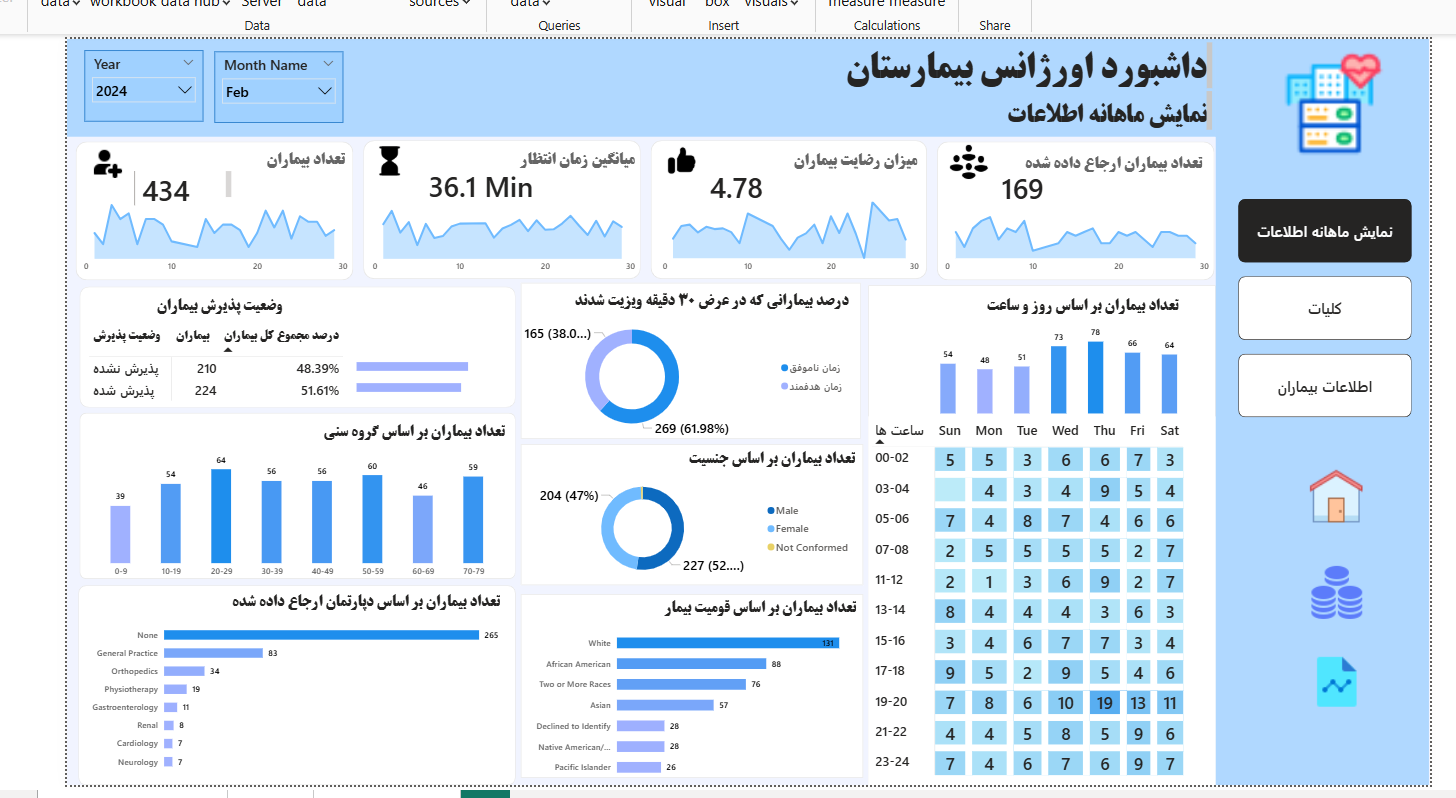

The page's visual inventory and layout, read from the dashboard file:
{"tool":"powerbi","page":{"name":"نمایش ماهانه اطلاعات","canvas":[1972,1080],"ordinal":0},"visuals":[{"type":"shape","box":[0,0,1663.3,141.5],"z":0},{"type":"textbox","box":[1018.8,0,644.2,88.7],"z":1000},{"type":"textbox","box":[1341,70.6,322.1,70.6],"z":2000},{"type":"shape","box":[12.7,148.4,401.7,200.9],"z":3000},{"type":"multiRowCard","fields":{"Values":["Hospital ER_Data.Number of Patients"]},"box":[92.3,186.4,150.2,59.7],"z":4000},{"type":"slicer","fields":{"Values":["Data Table.Year"]},"box":[25.3,16.3,171.9,103.2],"z":5000},{"type":"slicer","fields":{"Values":["Data Table.Month Name"]},"box":[213.5,18.1,186.4,103.2],"z":6000},{"type":"textbox","box":[213.5,152,193.6,54.3],"z":7000},{"type":"areaChart","fields":{"Category":["Data Table.Date.Variation.Date Hierarchy.Day"],"Y":["Hospital ER_Data.Number of Patients"]},"box":[12.7,222.6,401.7,124.9],"z":8000},{"type":"shape","box":[428.9,146.6,401.7,200.9],"z":10000},{"type":"shape","box":[845.1,146.6,399.9,200.9],"z":11000},{"type":"shape","box":[1259.5,148.4,401.7,200.9],"z":12000},{"type":"textbox","box":[570,146.6,257,56.1],"z":13000},{"type":"card","fields":{"Values":["Hospital ER_Data.Average Wait Time"]},"box":[499.5,184.6,199.1,56.1],"z":14000},{"type":"areaChart","fields":{"Category":["Data Table.Date.Variation.Date Hierarchy.Day"],"Y":["Avg(Hospital ER_Data.Patient Waittime)"]},"box":[430.7,222.6,399.9,124.9],"z":15000},{"type":"textbox","box":[986.3,148.4,249.7,57.9],"z":16000},{"type":"card","fields":{"Values":["Hospital ER_Data.Satisfaction Score"]},"box":[892.2,184.6,153.8,59.7],"z":17000},{"type":"areaChart","fields":{"Category":["Data Table.Date.Variation.Date Hierarchy.Day"],"Y":["Hospital ER_Data.Satisfaction Score"]},"box":[850.5,222.6,390.9,124.9],"z":18000},{"type":"textbox","box":[1328.3,152,320.3,57.9],"z":19000},{"type":"shape","box":[18.1,358.3,631.6,175.5],"z":20000},{"type":"areaChart","fields":{"Category":["Data Table.Date.Variation.Date Hierarchy.Day"],"Y":["Hospital ER_Data.Number Of Patient Referred"]},"box":[1259.5,222.6,401.7,124.9],"z":21000},{"type":"card","fields":{"Values":["Hospital ER_Data.Number Of Patient Referred"]},"box":[1306.6,186.4,153.8,57.9],"z":22000},{"type":"pivotTable","title":"وضعیت پذیرش بیماران","fields":{"Rows":["Hospital ER_Data.Admission Status"],"Values":["Hospital ER_Data.Number of Patients1","Hospital ER_Data.Number of Patients"]},"box":[27.1,363.7,387.3,166.5],"z":23000},{"type":"barChart","fields":{"Category":["Hospital ER_Data.وضعیت پذیرش"],"Y":["Hospital ER_Data.Number of Patients"]},"box":[414.4,439.7,226.2,94.1],"z":24000},{"type":"shape","box":[18.1,541.1,631.6,240.7],"z":25000},{"type":"columnChart","title":"تعداد بیماران بر اساس گروه سنی","fields":{"Category":["Hospital ER_Data.گروه سنی"],"Y":["Hospital ER_Data.Number of Patients"]},"box":[29,546.5,609.9,242.5],"z":26000},{"type":"shape","box":[16.3,790.8,633.4,289.5],"z":27000},{"type":"clusteredBarChart","title":"تعداد بیماران بر اساس دپارتمان ارجاع داده شده","fields":{"Category":["Hospital ER_Data.Department Referral"],"Y":["Hospital ER_Data.Number of Patients"]},"box":[30.8,792.6,600.8,276.9],"z":28000},{"type":"shape","box":[656.9,586.3,495.8,204.5],"z":29000},{"type":"shape","box":[656.9,352.9,492.2,226.2],"z":30000},{"type":"donutChart","title":"درصد بیمارانی که در عرض 30 دقیقه ویزیت شدند","fields":{"Category":["Hospital ER_Data.وضعیت زمان انتظار"],"Y":["Hospital ER_Data.Number of Patients"]},"box":[599,356.5,537.5,224.4],"z":31000},{"type":"donutChart","title":"تعداد بیماران بر اساس جنسیت","fields":{"Y":["Hospital ER_Data.Number of Patients"],"Category":["Hospital ER_Data.Patient Gender"]},"box":[649.7,586.3,495.8,204.5],"z":32000},{"type":"shape","box":[656.9,803.5,495.8,266],"z":33000},{"type":"clusteredBarChart","title":"تعداد بیماران بر اساس قومیت بیمار","fields":{"Y":["Hospital ER_Data.Number of Patients"],"Category":["Hospital ER_Data.Patient Race"]},"box":[662.3,801.7,485,278.7],"z":34000},{"type":"shape","box":[1160,356.5,503.1,723.9],"z":35000},{"type":"pivotTable","fields":{"Rows":["Hospital ER_Data.فاصله زمان انتظار"],"Columns":["Data Table.Day Name"],"Values":["Hospital ER_Data.Number of Patients"]},"box":[1160,546.5,503.1,533.8],"z":36000},{"type":"columnChart","title":"تعداد بیماران بر اساس روز و ساعت","fields":{"Category":["Data Table.Day Name"],"Y":["Hospital ER_Data.Number of Patients"]},"box":[1259.5,363.7,354.7,184.6],"z":37000},{"type":"image","box":[1259.5,144.8,92.3,67],"z":38000},{"type":"image","box":[427.1,148.4,79.6,56.1],"z":39000},{"type":"image","box":[25.3,155.6,68.8,50.7],"z":40000},{"type":"image","box":[852.4,146.6,76,61.5],"z":41000},{"type":"shape","box":[1663.3,0,308.7,1080.3],"z":42000},{"type":"image","box":[1721,0,226.2,186.4],"z":43000},{"type":"pageNavigator","box":[1695.7,231.6,251.5,316.7],"z":44000},{"type":"image","box":[1787.7,878.8,100.7,102.9],"z":48000},{"type":"image","box":[1787.7,756.6,100.7,90],"z":49000},{"type":"image","box":[1787.7,617.3,98.6,90],"z":51000}]}

Visuals, with their boxes on the page's 1972x1080 design canvas (x1, y1, x2, y2). These are canvas units, not pixel positions in the 1456x798 screenshot, which may show the page scaled, cropped or inside an application window:
shape: region(0, 0, 1663, 142)
textbox: region(1019, 0, 1663, 89)
textbox: region(1341, 71, 1663, 141)
shape: region(13, 148, 414, 349)
multiRowCard - Hospital ER_Data.Number of Patients: region(92, 186, 242, 246)
slicer - Data Table.Year: region(25, 16, 197, 120)
slicer - Data Table.Month Name: region(214, 18, 400, 121)
textbox: region(214, 152, 407, 206)
areaChart - Data Table.Date.Variation.Date Hierarchy.Day x Hospital ER_Data.Number of Patients: region(13, 223, 414, 348)
shape: region(429, 147, 831, 348)
shape: region(845, 147, 1245, 348)
shape: region(1260, 148, 1661, 349)
textbox: region(570, 147, 827, 203)
card - Hospital ER_Data.Average Wait Time: region(500, 185, 699, 241)
areaChart - Data Table.Date.Variation.Date Hierarchy.Day x Avg(Hospital ER_Data.Patient Waittime): region(431, 223, 831, 348)
textbox: region(986, 148, 1236, 206)
card - Hospital ER_Data.Satisfaction Score: region(892, 185, 1046, 244)
areaChart - Data Table.Date.Variation.Date Hierarchy.Day x Hospital ER_Data.Satisfaction Score: region(850, 223, 1241, 348)
textbox: region(1328, 152, 1649, 210)
shape: region(18, 358, 650, 534)
areaChart - Data Table.Date.Variation.Date Hierarchy.Day x Hospital ER_Data.Number Of Patient Referred: region(1260, 223, 1661, 348)
card - Hospital ER_Data.Number Of Patient Referred: region(1307, 186, 1460, 244)
"وضعیت پذیرش بیماران" pivotTable: region(27, 364, 414, 530)
barChart - Hospital ER_Data.وضعیت پذیرش x Hospital ER_Data.Number of Patients: region(414, 440, 641, 534)
shape: region(18, 541, 650, 782)
"تعداد بیماران بر اساس گروه سنی" columnChart: region(29, 546, 639, 789)
shape: region(16, 791, 650, 1080)
"تعداد بیماران بر اساس دپارتمان ارجاع داده شده" clusteredBarChart: region(31, 793, 632, 1070)
shape: region(657, 586, 1153, 791)
shape: region(657, 353, 1149, 579)
"درصد بیمارانی که در عرض 30 دقیقه ویزیت شدند" donutChart: region(599, 356, 1136, 581)
"تعداد بیماران بر اساس جنسیت" donutChart: region(650, 586, 1146, 791)
shape: region(657, 804, 1153, 1070)
"تعداد بیماران بر اساس قومیت بیمار" clusteredBarChart: region(662, 802, 1147, 1080)
shape: region(1160, 356, 1663, 1080)
pivotTable - Hospital ER_Data.فاصله زمان انتظار x Data Table.Day Name: region(1160, 546, 1663, 1080)
"تعداد بیماران بر اساس روز و ساعت" columnChart: region(1260, 364, 1614, 548)
image: region(1260, 145, 1352, 212)
image: region(427, 148, 507, 204)
image: region(25, 156, 94, 206)
image: region(852, 147, 928, 208)
shape: region(1663, 0, 1972, 1080)
image: region(1721, 0, 1947, 186)
pageNavigator: region(1696, 232, 1947, 548)
image: region(1788, 879, 1888, 982)
image: region(1788, 757, 1888, 847)
image: region(1788, 617, 1886, 707)
